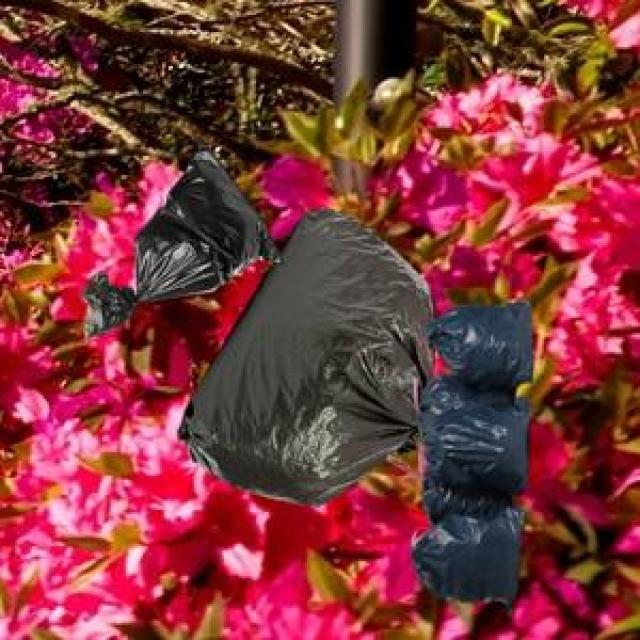Trashbag: (248, 217, 431, 502), (129, 152, 261, 309), (414, 493, 535, 610), (424, 391, 540, 499), (434, 293, 543, 382)
